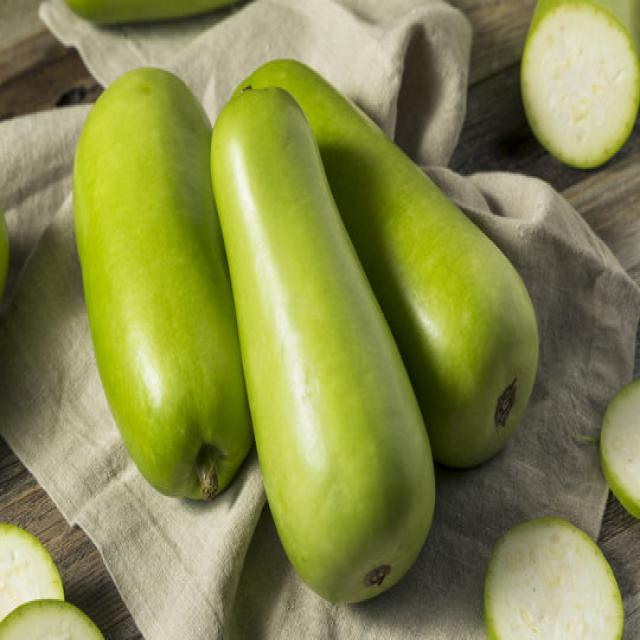Bell Pepper: (209, 80, 436, 604), (71, 64, 254, 501), (528, 0, 638, 66), (0, 92, 9, 481)
Bottle Gourd: (253, 55, 539, 471), (519, 0, 639, 169), (482, 516, 624, 638), (0, 521, 64, 638), (597, 373, 639, 521), (52, 0, 275, 25), (0, 598, 120, 638)
Radish: (0, 100, 95, 326)
